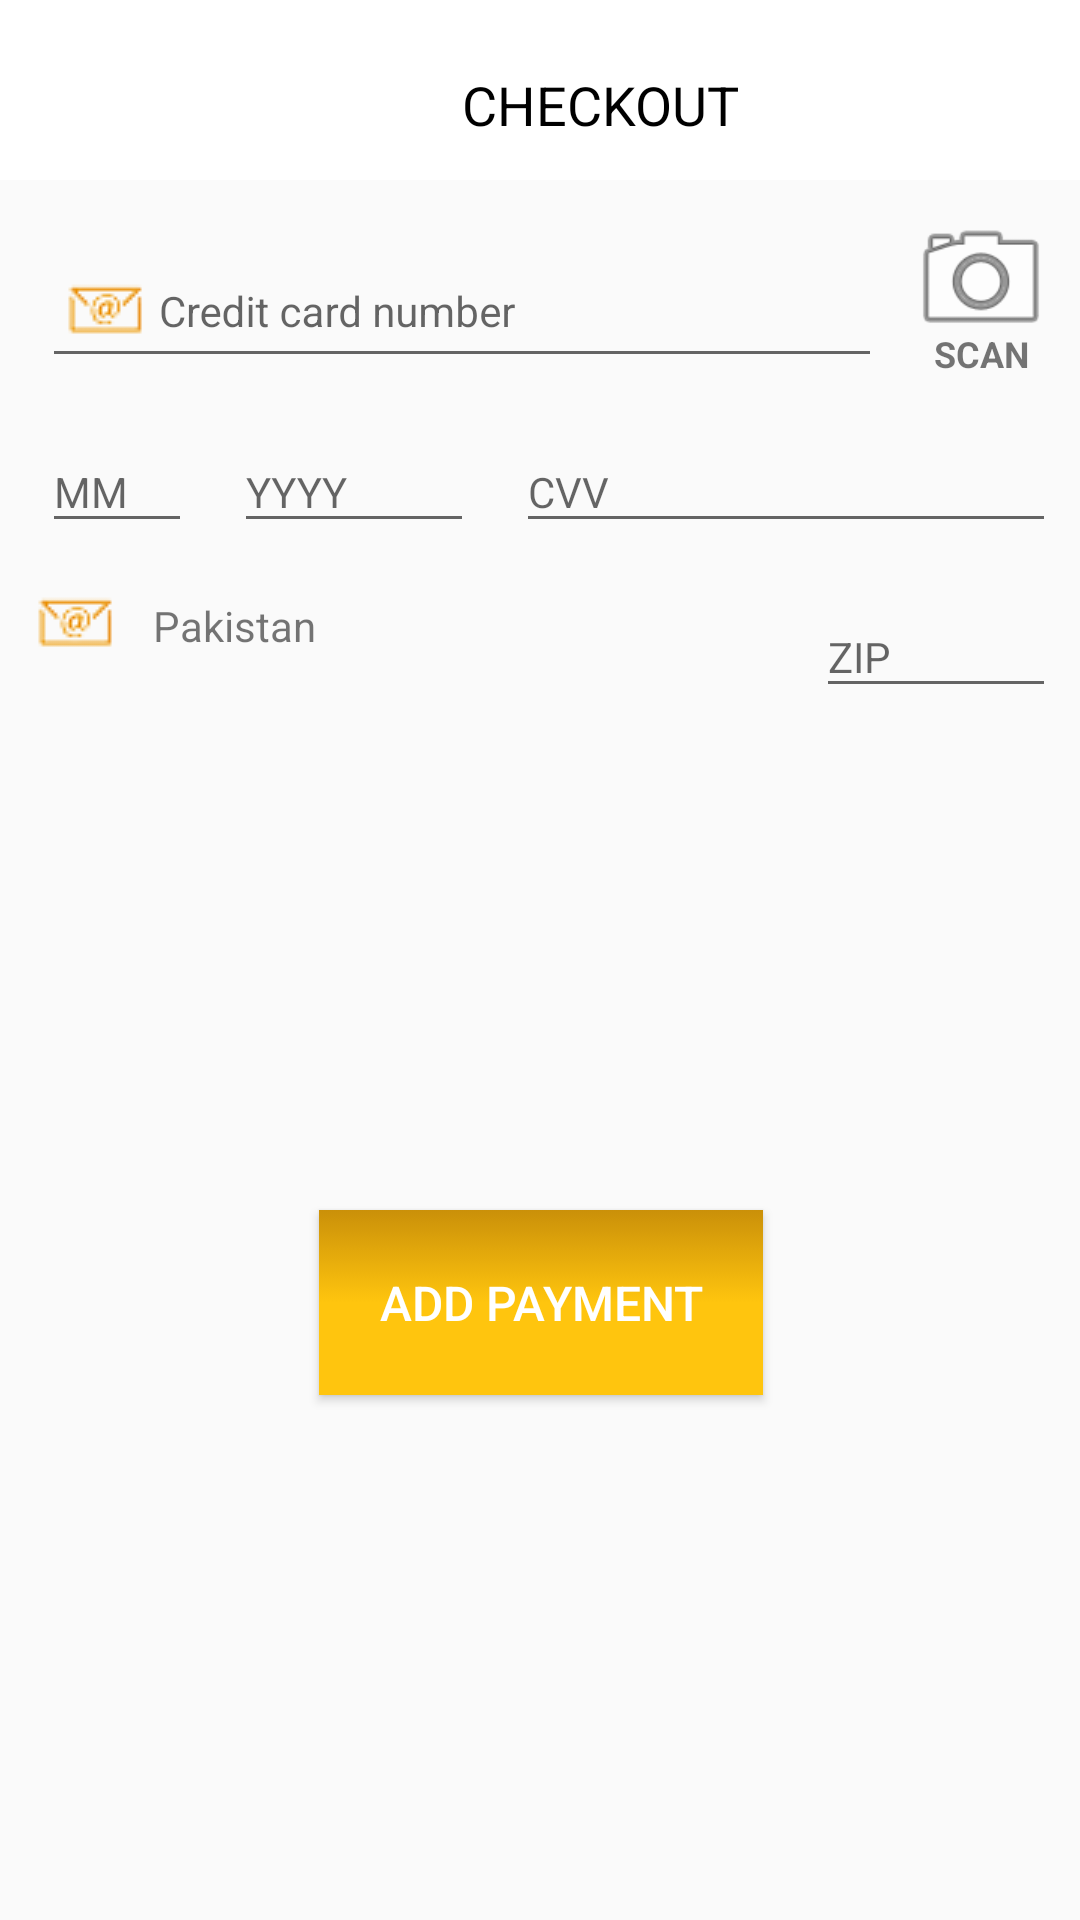

Screen size 1080px x 1920px. Icon name, then its center in pixels as point (x, y):
camera: point (981, 276)
